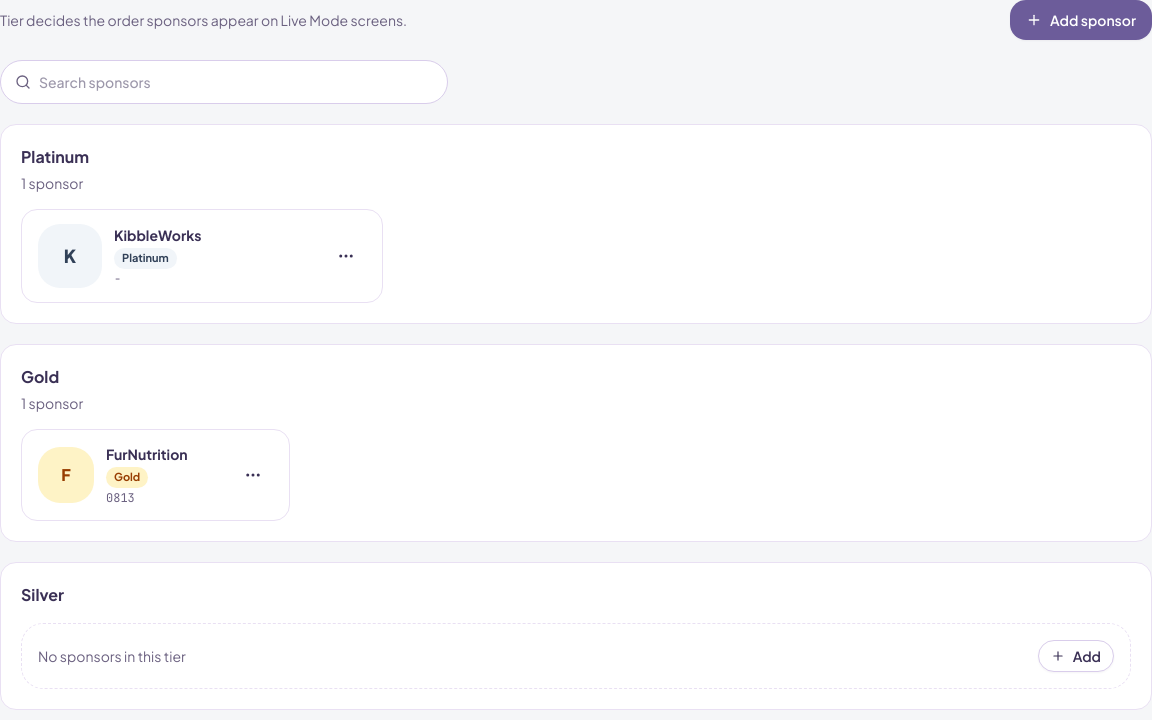
Test: EventSponsors › filters sponsors by brand name with the search box
Expected: the text "KibbleWorks" is shown, [114,226,201,244]
Type "kibble" into the search field labelled "Search sponsors" at (236, 82), box [39,72,433,92]
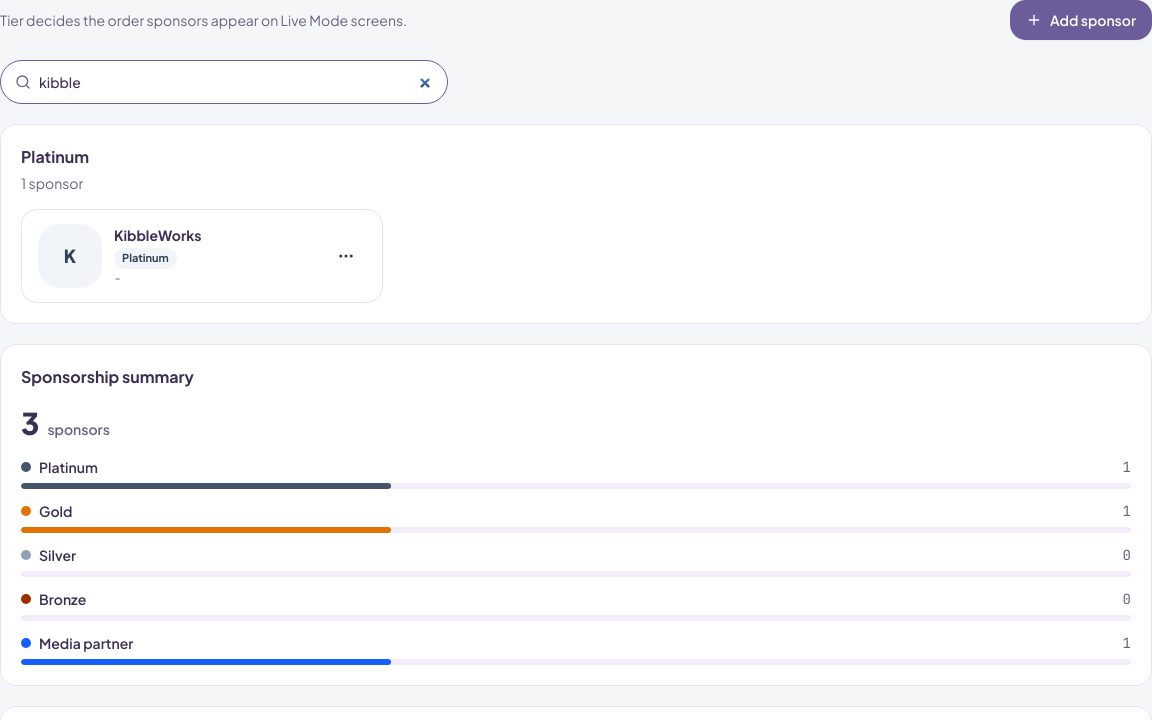
Expected: the text "KibbleWorks" is shown, [114,226,201,244]
Expected: the text "FurNutrition" is gone
